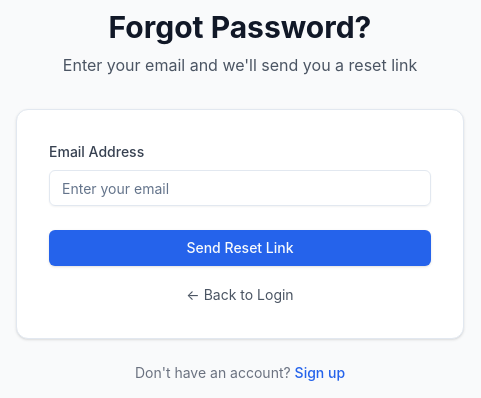
ForgotPasswordPage - Form Submission › should show loading state when submitting
Type "test@example.com" into the field with test id "email-input" at (240,188), box left=49, top=170, right=431, bottom=206
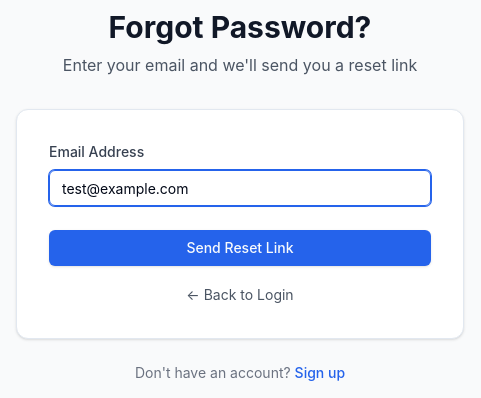
Click the button with test id "submit-button" at (240,248), box left=49, top=230, right=431, bottom=266
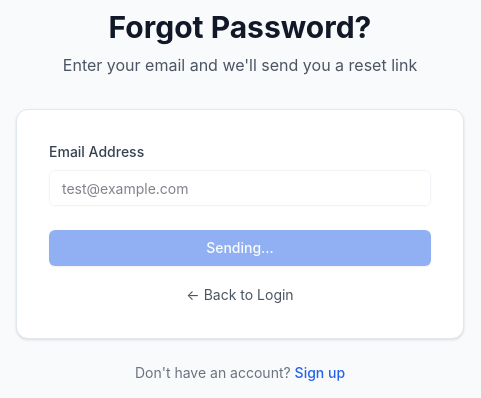
Result: the button "Sending..." is disabled at left=49, top=230, right=431, bottom=266
Result: the field with test id "email-input" is disabled at left=49, top=170, right=431, bottom=206
